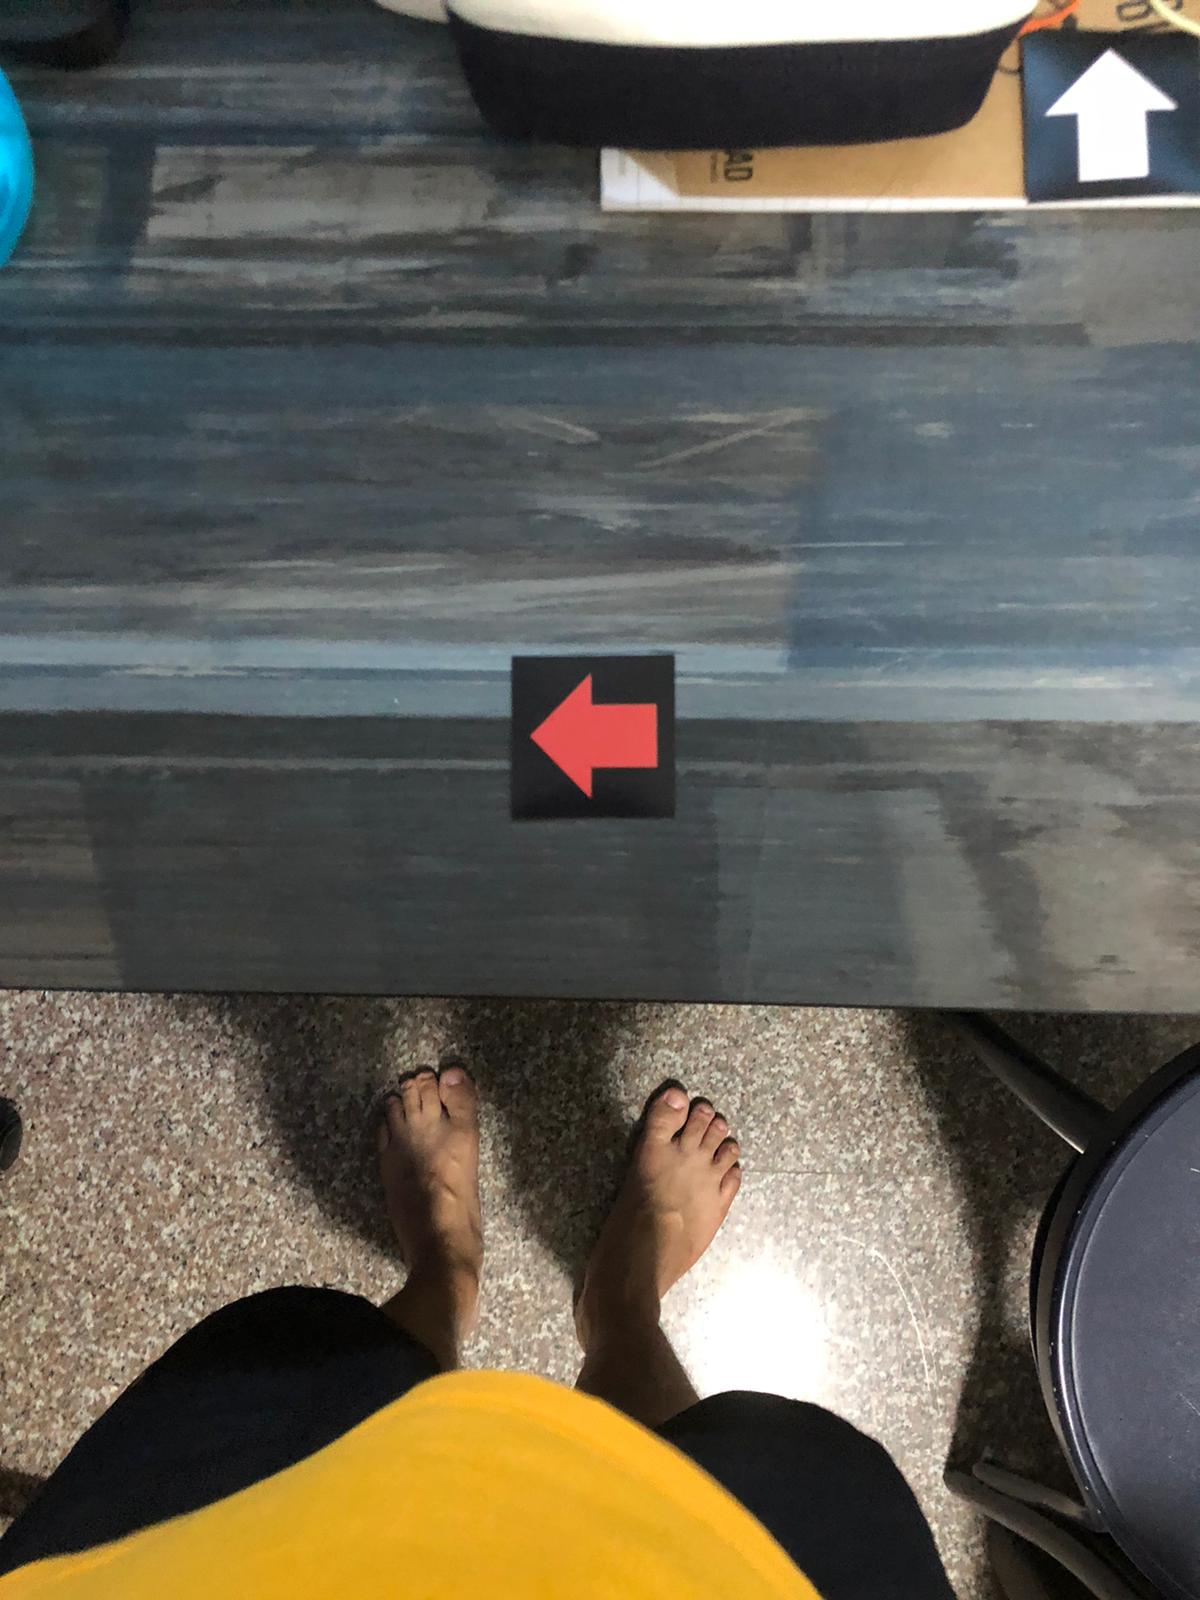Left Arrow: (516, 660, 673, 815)
Top Arrow: (1018, 40, 1197, 205)
